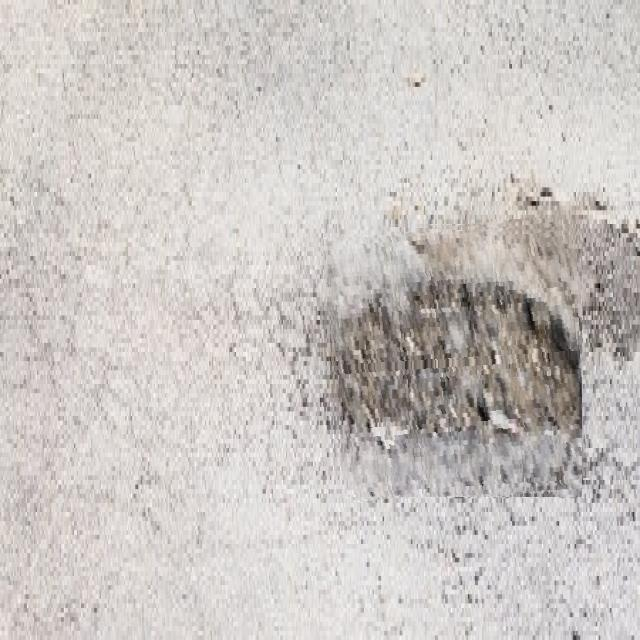Pothole: (328, 220, 582, 497)
